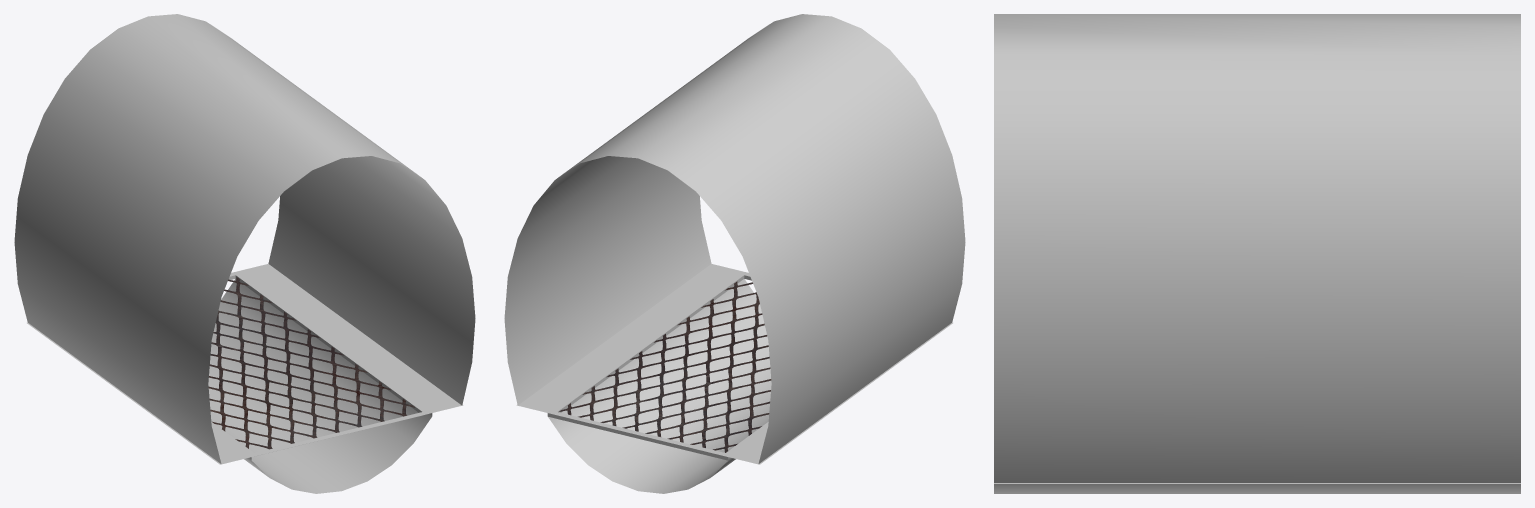
File: Module_Straight_A.fbx
3 renders of one model, left to right at view 1: azimuth 30°, elevation 25°; view 2: azimuth 150°, elevation 25°; view 3: azimuth 270°, elevation 25°, orthographic. The views are drawn at different scales.
Visible parts, largest first — view 1: Module_Straight_A; view 2: Module_Straight_A; view 3: Module_Straight_A.
Boxes of the visible parts, x1,y1,x2,y2 form: Module_Straight_A: [14, 14, 475, 493]; Module_Straight_A: [504, 14, 965, 493]; Module_Straight_A: [994, 14, 1520, 493].
Bounding box in the file's own units: 902 × 1074 × 1134.
